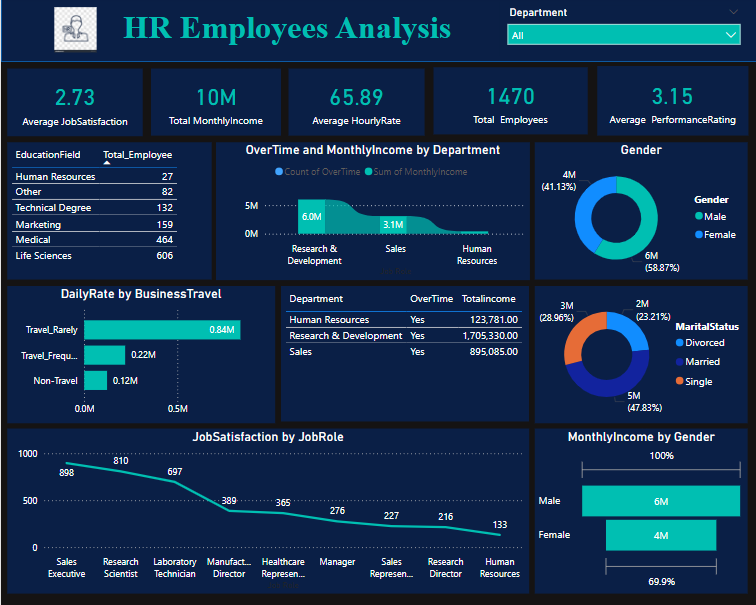

This screenshot's page, from the dashboard's own definition file:
{"tool":"powerbi","page":{"name":"Page 1","canvas":[1000,1000],"ordinal":0},"visuals":[{"type":"shape","box":[0,0,1280.3,87.2],"z":0},{"type":"textbox","box":[133,11,493,68],"z":1000},{"type":"image","box":[53.1,9.5,91.3,69.5],"z":2000},{"type":"funnel","title":"MonthlyIncome by Gender","fields":{"Category":["WA_Fn-UseC_-HR-Employee-Attrition.Gender"],"Y":["Sum(WA_Fn-UseC_-HR-Employee-Attrition.MonthlyIncome)"]},"box":[706.7,572.5,281.9,218.2],"z":3000},{"type":"lineChart","title":"JobSatisfaction by JobRole","fields":{"Category":["WA_Fn-UseC_-HR-Employee-Attrition.JobRole"],"Y":["Sum(WA_Fn-UseC_-HR-Employee-Attrition.JobSatisfaction)"]},"box":[8.7,572.5,690.3,218.2],"z":4000},{"type":"barChart","title":" DailyRate by BusinessTravel","fields":{"Category":["WA_Fn-UseC_-HR-Employee-Attrition.BusinessTravel"],"Y":["Sum(WA_Fn-UseC_-HR-Employee-Attrition.DailyRate)"]},"box":[8.7,383.3,354.3,181.5],"z":5000},{"type":"card","fields":{"Values":["Sum(WA_Fn-UseC_-HR-Employee-Attrition.MonthlyIncome)"]},"box":[198,96,172,89],"z":6000},{"type":"card","fields":{"Values":["Avg(WA_Fn-UseC_-HR-Employee-Attrition.HourlyRate)"]},"box":[380,96,180,89],"z":7000},{"type":"card","fields":{"Values":["Avg(WA_Fn-UseC_-HR-Employee-Attrition.JobSatisfaction)"]},"box":[8.7,95.6,179.6,89.8],"z":8000},{"type":"ribbonChart","title":"OverTime and MonthlyIncome by Department","fields":{"Category":["WA_Fn-UseC_-HR-Employee-Attrition.Department"],"Y":["CountNonNull(WA_Fn-UseC_-HR-Employee-Attrition.OverTime)","Sum(WA_Fn-UseC_-HR-Employee-Attrition.MonthlyIncome)"]},"box":[284,194,415,182],"z":9000},{"type":"donutChart","title":" Gender","fields":{"Category":["WA_Fn-UseC_-HR-Employee-Attrition.Gender"],"Y":["Sum(WA_Fn-UseC_-HR-Employee-Attrition.MonthlyIncome)"]},"box":[706.7,194.1,281.9,181.5],"z":10000},{"type":"card","fields":{"Values":["Sum(WA_Fn-UseC_-HR-Employee-Attrition.EmployeeCount)"]},"box":[572,94,204,89],"z":11000},{"type":"tableEx","fields":{"Values":["Query1.EducationField","Query1.Total_Employee"]},"box":[8.7,194.1,270.3,181.5],"z":12000},{"type":"tableEx","fields":{"Values":["Query3.Department","Query3.OverTime","Query3.Totalincome"]},"box":[370.7,383.3,328.2,179.6],"z":13000},{"type":"card","fields":{"Values":["Avg(WA_Fn-UseC_-HR-Employee-Attrition.PerformanceRating)"]},"box":[789,93,200,92],"z":14000},{"type":"donutChart","title":"MaritalStatus","fields":{"Y":["Sum(WA_Fn-UseC_-HR-Employee-Attrition.MonthlyIncome)"],"Series":["WA_Fn-UseC_-HR-Employee-Attrition.MaritalStatus"]},"box":[706.7,383.3,281.9,181.5],"z":15000},{"type":"slicer","fields":{"Values":["Query3.Department"]},"box":[660.4,8.7,328.2,71.4],"z":16000}]}

Visuals, with their boxes on the page's 1000x1000 design canvas (x1, y1, x2, y2). These are canvas units, not pixel positions in the 756x605 screenshot, which may show the page scaled, cropped or inside an application window:
shape: bbox=(0, 0, 1280, 87)
textbox: bbox=(133, 11, 626, 79)
image: bbox=(53, 10, 144, 79)
"MonthlyIncome by Gender" funnel: bbox=(707, 572, 989, 791)
"JobSatisfaction by JobRole" lineChart: bbox=(9, 572, 699, 791)
" DailyRate by BusinessTravel" barChart: bbox=(9, 383, 363, 565)
card - Sum(WA_Fn-UseC_-HR-Employee-Attrition.MonthlyIncome): bbox=(198, 96, 370, 185)
card - Avg(WA_Fn-UseC_-HR-Employee-Attrition.HourlyRate): bbox=(380, 96, 560, 185)
card - Avg(WA_Fn-UseC_-HR-Employee-Attrition.JobSatisfaction): bbox=(9, 96, 188, 185)
"OverTime and MonthlyIncome by Department" ribbonChart: bbox=(284, 194, 699, 376)
" Gender" donutChart: bbox=(707, 194, 989, 376)
card - Sum(WA_Fn-UseC_-HR-Employee-Attrition.EmployeeCount): bbox=(572, 94, 776, 183)
tableEx - Query1.EducationField x Query1.Total_Employee: bbox=(9, 194, 279, 376)
tableEx - Query3.Department x Query3.OverTime: bbox=(371, 383, 699, 563)
card - Avg(WA_Fn-UseC_-HR-Employee-Attrition.PerformanceRating): bbox=(789, 93, 989, 185)
"MaritalStatus" donutChart: bbox=(707, 383, 989, 565)
slicer - Query3.Department: bbox=(660, 9, 989, 80)
